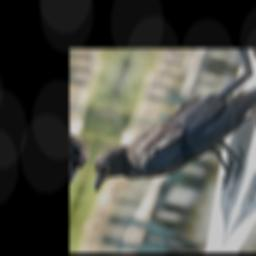Crow: (85, 50, 256, 221)
